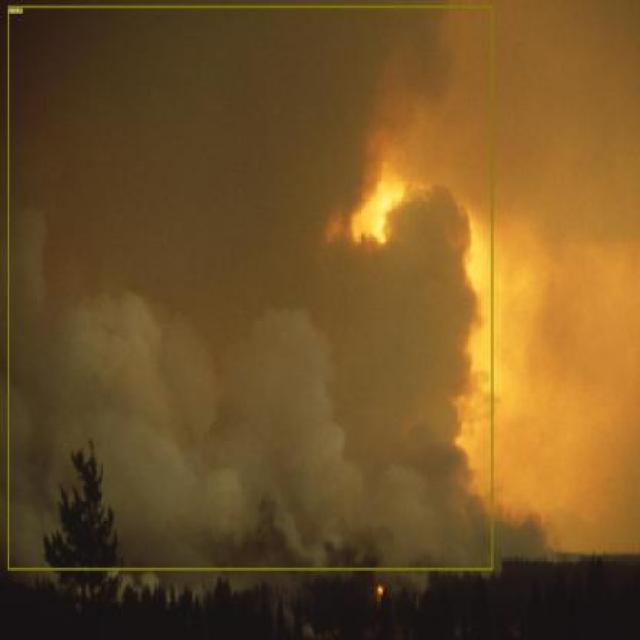smoke: (8, 5, 492, 570)
